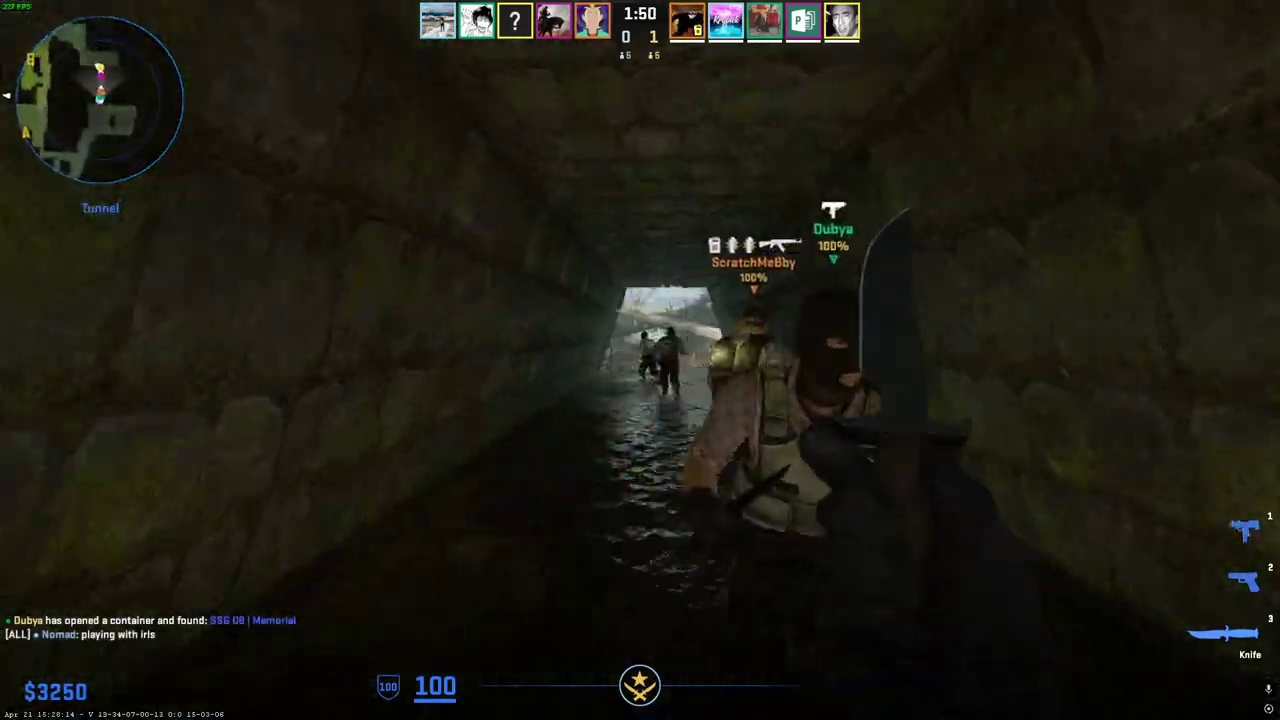Terrorist: (700, 287, 895, 708), (656, 326, 684, 399), (638, 330, 657, 380)
